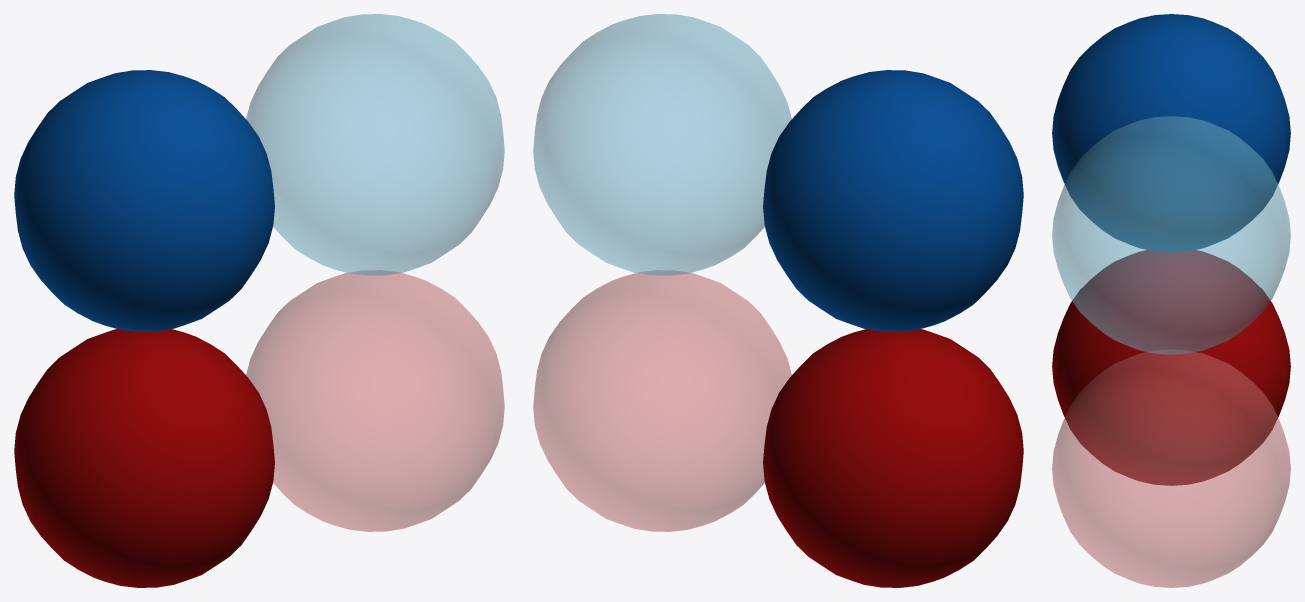
Rendered from Materials.fbx.
3 renders of one model, left to right at view 1: azimuth 30°, elevation 25°; view 2: azimuth 150°, elevation 25°; view 3: azimuth 270°, elevation 25°, orthographic. The views are drawn at different scales.
Visible parts, largest first — view 1: BluMat, RedMat, BubbleBluMat, BubbleRedMat; view 2: BluMat, RedMat, BubbleBluMat, BubbleRedMat; view 3: BluMat, BubbleBluMat, BubbleRedMat, RedMat.
Part boxes in pixels (x1=…): BluMat: x1=14, y1=70, x2=274, y2=331; RedMat: x1=14, y1=329, x2=274, y2=587; BubbleBluMat: x1=246, y1=14, x2=504, y2=275; BubbleRedMat: x1=246, y1=270, x2=504, y2=531; BluMat: x1=763, y1=70, x2=1023, y2=331; RedMat: x1=763, y1=329, x2=1023, y2=587; BubbleBluMat: x1=533, y1=14, x2=791, y2=275; BubbleRedMat: x1=533, y1=270, x2=791, y2=531; BluMat: x1=1052, y1=14, x2=1290, y2=252; BubbleBluMat: x1=1052, y1=116, x2=1290, y2=354; BubbleRedMat: x1=1052, y1=349, x2=1290, y2=587; RedMat: x1=1052, y1=250, x2=1290, y2=485.
Bounding box in the file's own units: 35.64 × 36.8 × 17.72.
